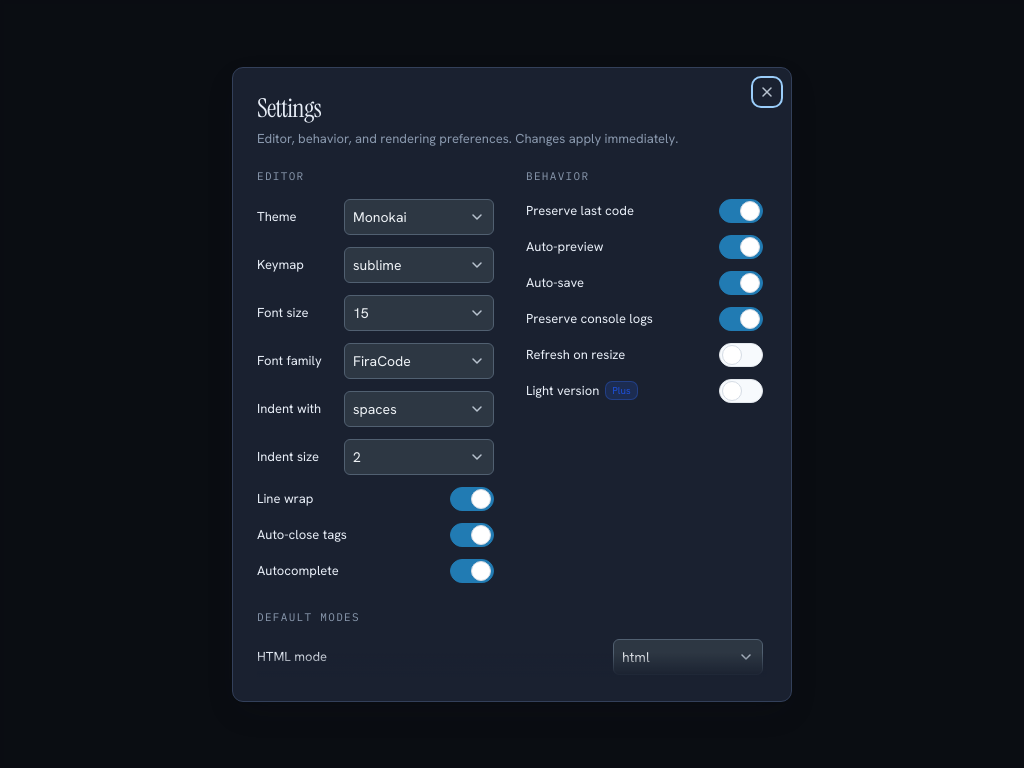
SettingsModal › Theme picker offers the CM6 set incl. Ink, not dead CM5 ids
Click the dropdown with test id "setting-editorTheme" at (419, 216), box [344,198,494,234]
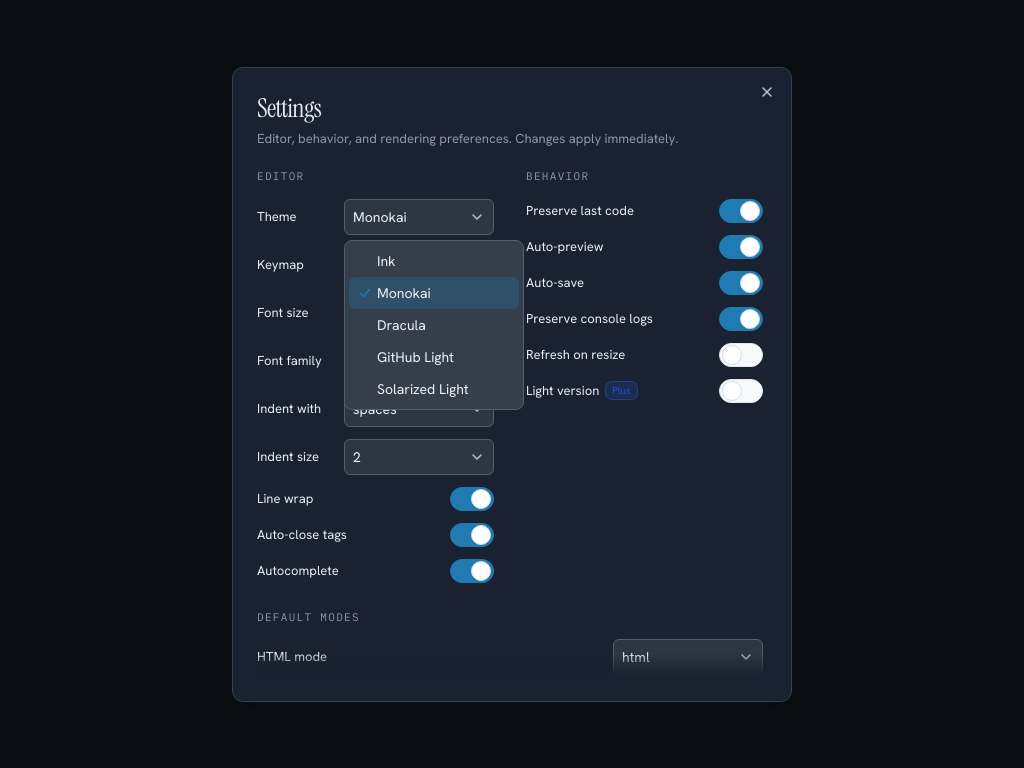
Now the text "Ink" is shown, box [377,251,396,271]
Now the text "Dracula" is shown, box [377,315,426,335]
